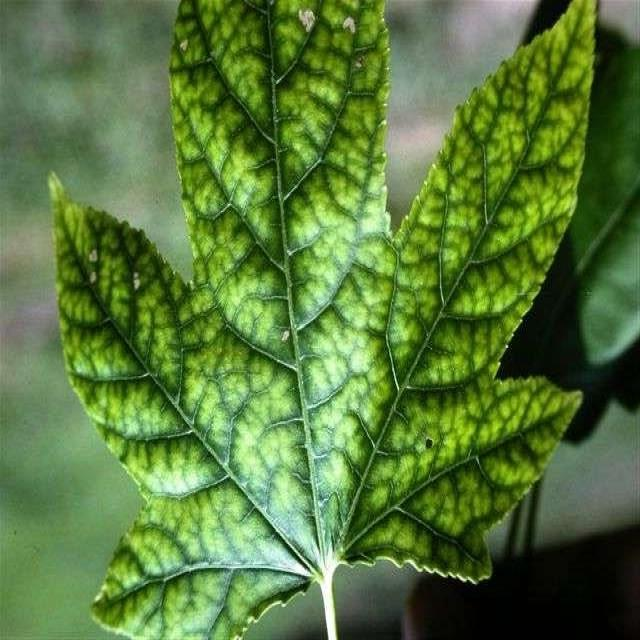Chlorosis: (27, 12, 583, 640)
